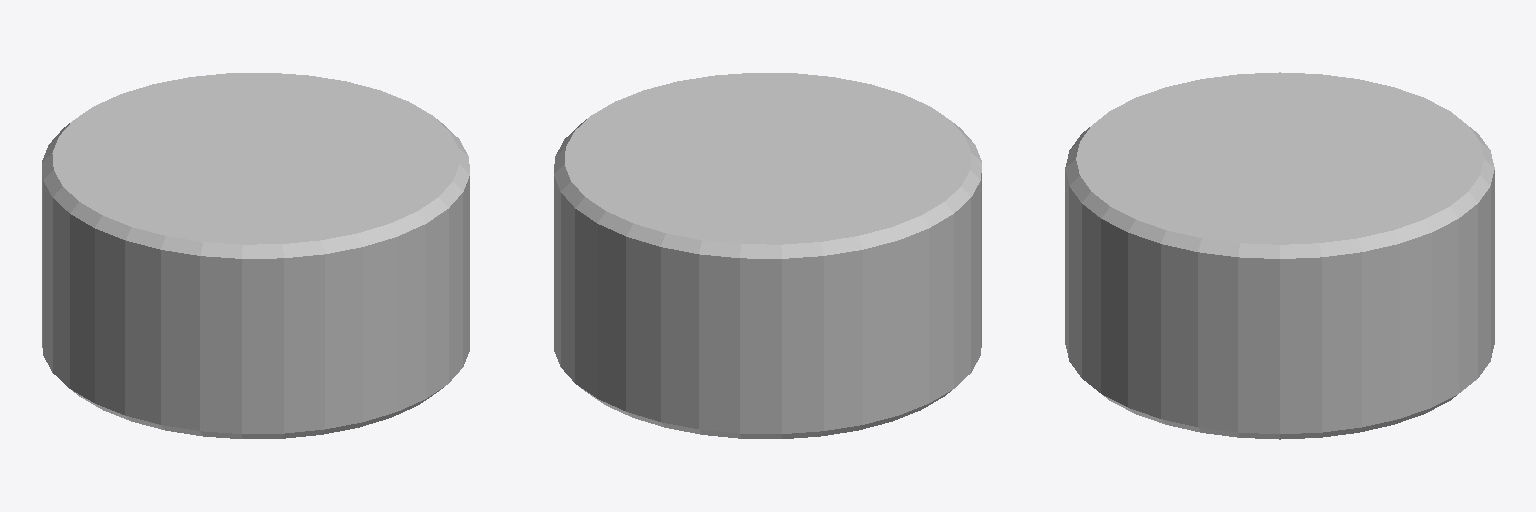
The model's file is Field.obj.
3 renders of one model, left to right at view 1: azimuth 30°, elevation 25°; view 2: azimuth 150°, elevation 25°; view 3: azimuth 270°, elevation 25°, orthographic.
Visible parts, largest first — view 1: Cylinder; view 2: Cylinder; view 3: Cylinder.
Part boxes in pixels (x1,y1,x2,y2): Cylinder: (42,73,469,438); Cylinder: (554,73,981,438); Cylinder: (1065,72,1494,439).
Bounding box in the file's own units: 2 × 1 × 2.